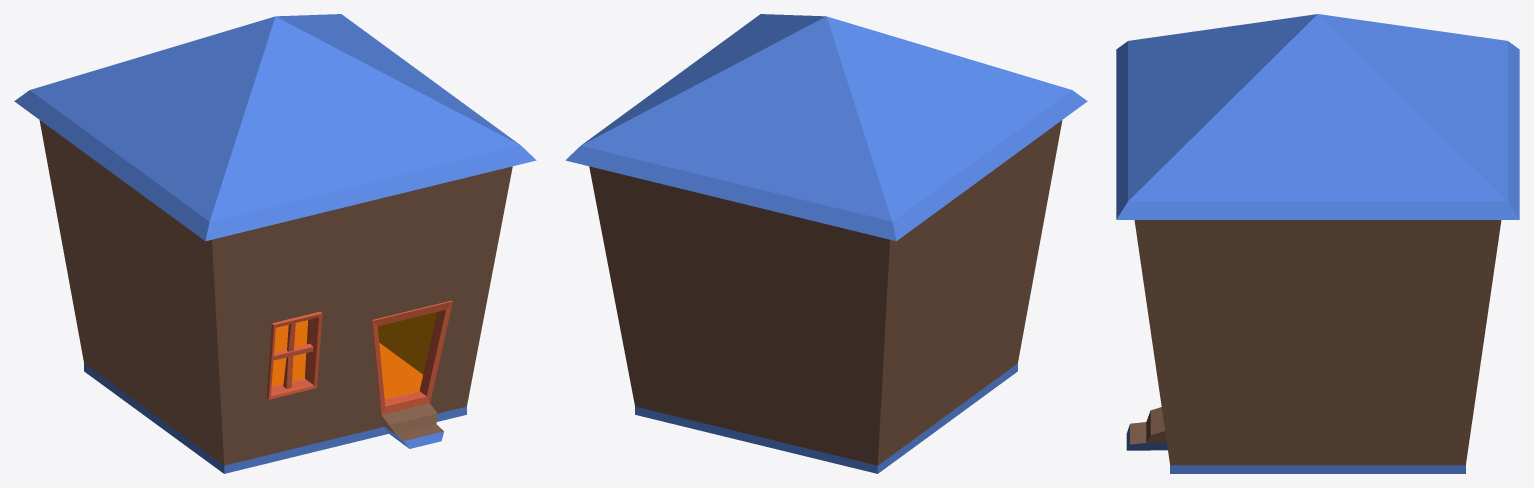
The model's file is UnityChans_House.fbx.
The picture shows the model from 3 angles, left to right: view 1: azimuth 30°, elevation 25°; view 2: azimuth 150°, elevation 25°; view 3: azimuth 270°, elevation 25°; orthographic projection. The views are drawn at different scales.
Visible parts, largest first — view 1: House; view 2: House; view 3: House.
Part boxes in pixels (x1,y1,x2,y2): House: (14,14,536,473); House: (565,14,1087,473); House: (1116,14,1519,473).
Size of the model in its own units: 2251 by 2447 by 2251.
